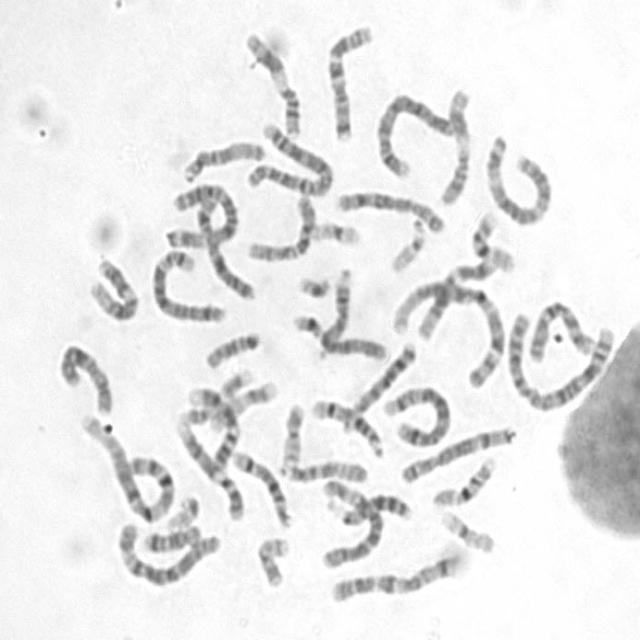A1: (384, 270, 509, 390), (74, 404, 177, 524)
A2: (500, 302, 619, 414), (240, 116, 334, 197)
A3: (479, 127, 554, 228), (162, 175, 239, 251)
B4: (370, 85, 460, 178), (312, 268, 388, 360)
B5: (145, 241, 228, 326), (378, 378, 453, 448)
C10: (242, 188, 318, 264), (524, 291, 598, 365)
C11: (240, 23, 304, 138), (434, 79, 474, 207)
C12: (412, 249, 500, 342), (83, 250, 141, 323)
C6: (111, 515, 222, 590), (315, 471, 385, 571)
C7: (325, 545, 466, 605), (321, 15, 375, 144)
C8: (395, 418, 516, 486), (331, 182, 447, 234)
C9: (169, 410, 245, 522), (180, 378, 242, 470)
D13: (336, 334, 418, 434), (326, 487, 414, 526)
D14: (226, 442, 294, 530), (306, 392, 386, 461)
D15: (177, 133, 267, 183), (273, 452, 371, 486)
E16: (428, 448, 498, 509), (466, 205, 517, 274)
E17: (180, 362, 254, 429), (202, 371, 280, 433)
E18: (200, 324, 262, 371), (138, 518, 203, 554)
F19: (434, 503, 496, 555), (305, 212, 364, 246)
F20: (251, 529, 291, 590), (275, 396, 307, 470)
G21: (292, 268, 333, 300), (288, 307, 324, 340)
G22: (385, 214, 427, 274), (161, 488, 201, 532)
X: (192, 190, 257, 302), (52, 336, 115, 416)
